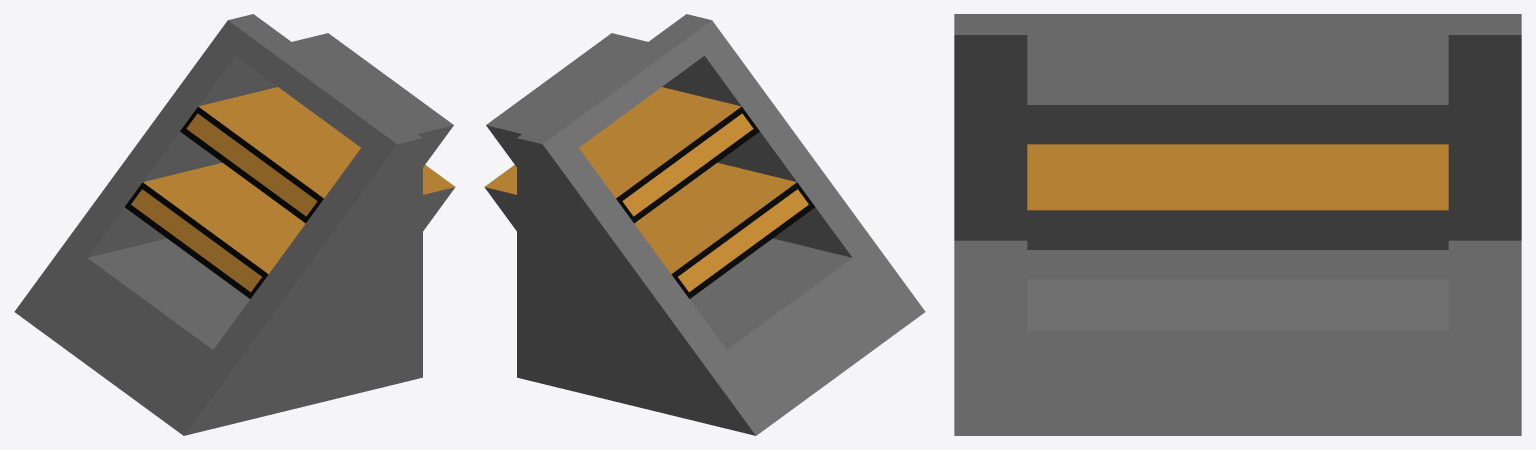
Rendered from LifeSupportVent.glb.
The picture shows the model from 3 angles, left to right: view 1: azimuth 30°, elevation 25°; view 2: azimuth 150°, elevation 25°; view 3: azimuth 270°, elevation 25°; orthographic projection. The views are drawn at different scales.
Parts seen in each view (by area): view 1: Cube; view 2: Cube; view 3: Cube.
Part boxes in pixels (x1,y1,x2,y2): Cube: (14,14,455,435); Cube: (484,14,925,435); Cube: (954,14,1521,435).
Bounding box in the file's own units: 1.35 × 1.06 × 1.35.
